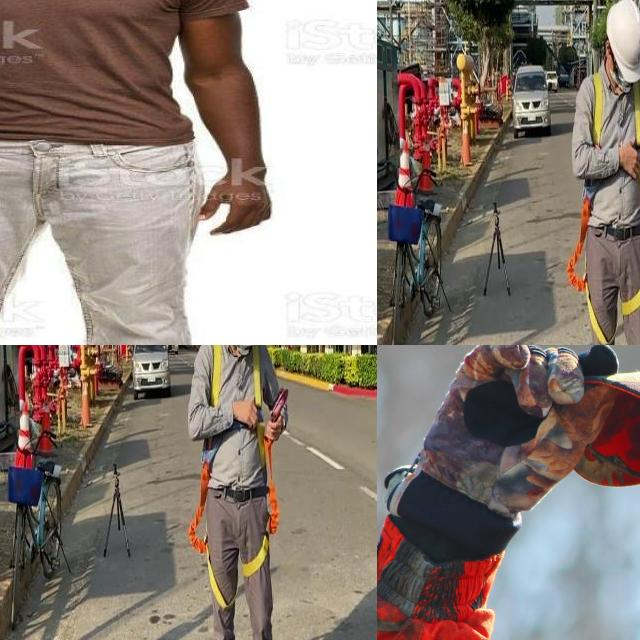Harness: (567, 189, 615, 345), (188, 458, 235, 610), (243, 423, 280, 578)
hand_noglove: (190, 152, 278, 243)
person: (0, 0, 272, 345)
